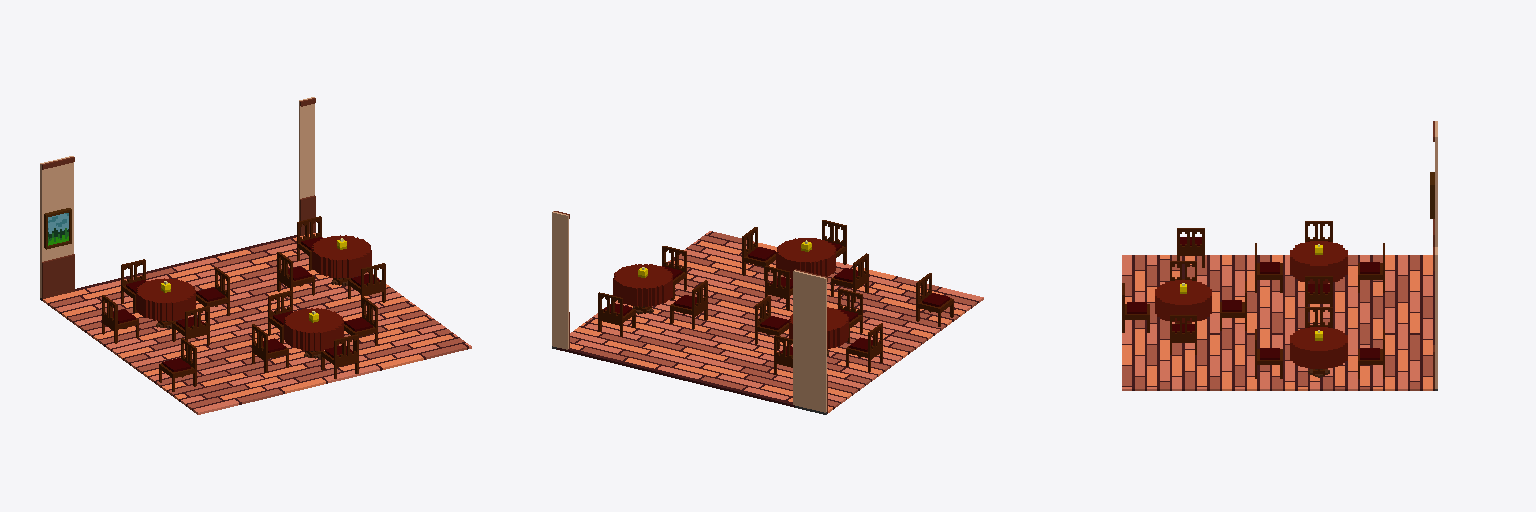
3 views of the same model, side by side, from view 1: azimuth 30°, elevation 25°; view 2: azimuth 150°, elevation 25°; view 3: azimuth 270°, elevation 25° (orthographic).
Parts seen in each view (by area): view 1: object 1; view 2: object 1; view 3: object 1.
Boxes of the visible parts, x1=… form: object 1: x1=40, y1=97, x2=471, y2=414; object 1: x1=552, y1=211, x2=983, y2=414; object 1: x1=1122, y1=121, x2=1437, y2=390.
Bounding box in the file's own units: 12.6 × 6 × 12.6.
Materials: 1 (1 with a texture image).